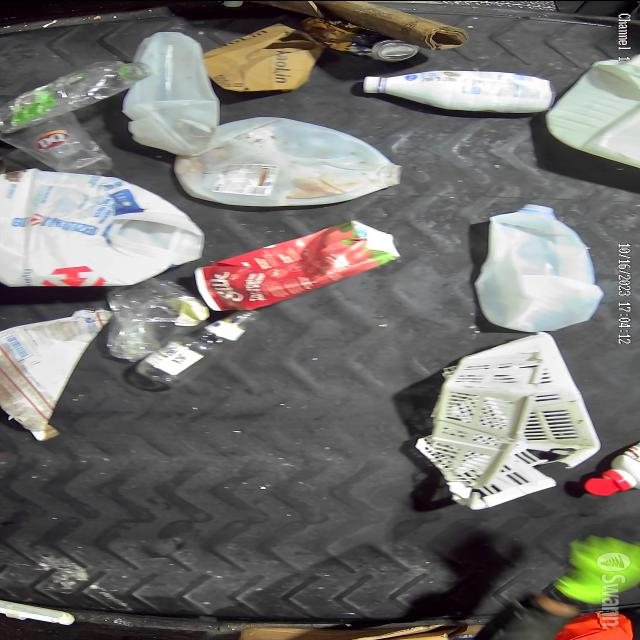can: (313, 22, 429, 65)
milk_jug: (0, 175, 211, 287), (190, 116, 408, 209), (483, 198, 603, 328), (140, 22, 220, 148), (384, 69, 552, 108)
non_white_jug: (203, 221, 403, 305)
plastic_bottle: (0, 56, 158, 126), (137, 305, 265, 391), (104, 286, 214, 364), (8, 112, 104, 170)
